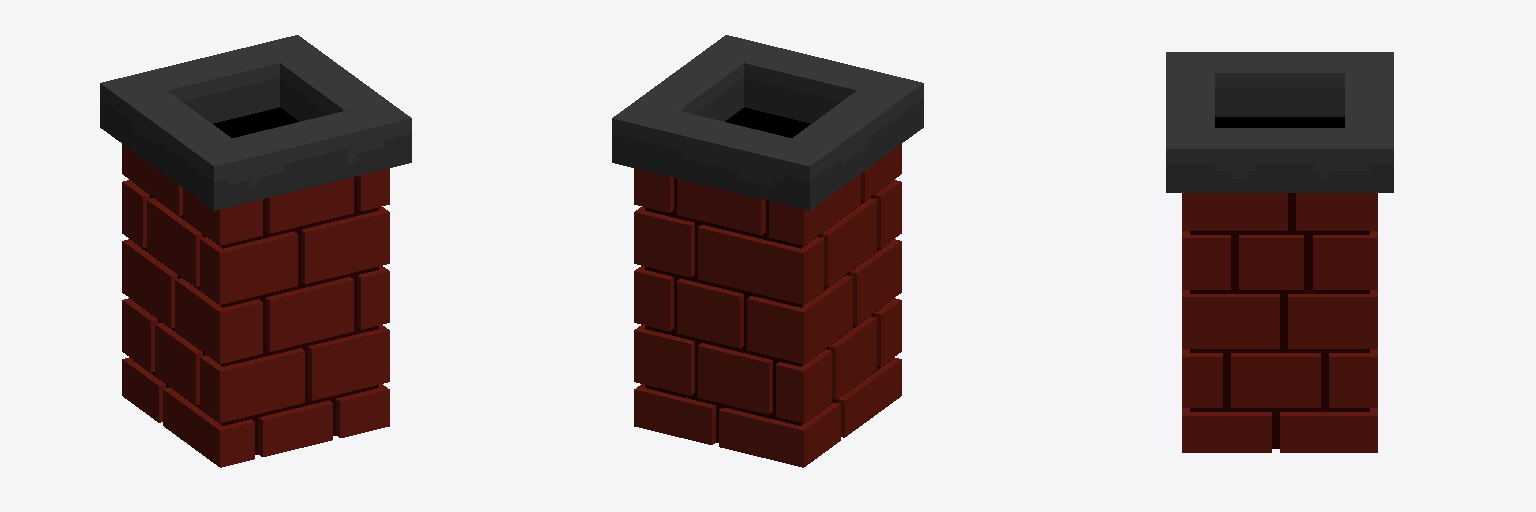
3 views of the same model, side by side, from view 1: azimuth 30°, elevation 25°; view 2: azimuth 150°, elevation 25°; view 3: azimuth 270°, elevation 25° (orthographic).
Visible parts, largest first — view 1: object 1; view 2: object 1; view 3: object 1.
Boxes of the visible parts, x1,y1,x2,y2 form: object 1: [100, 35, 411, 467]; object 1: [612, 35, 923, 467]; object 1: [1166, 52, 1393, 452].
Bounding box in the file's own units: 2.8 × 4.2 × 2.8.
1 materials, 1 textured.